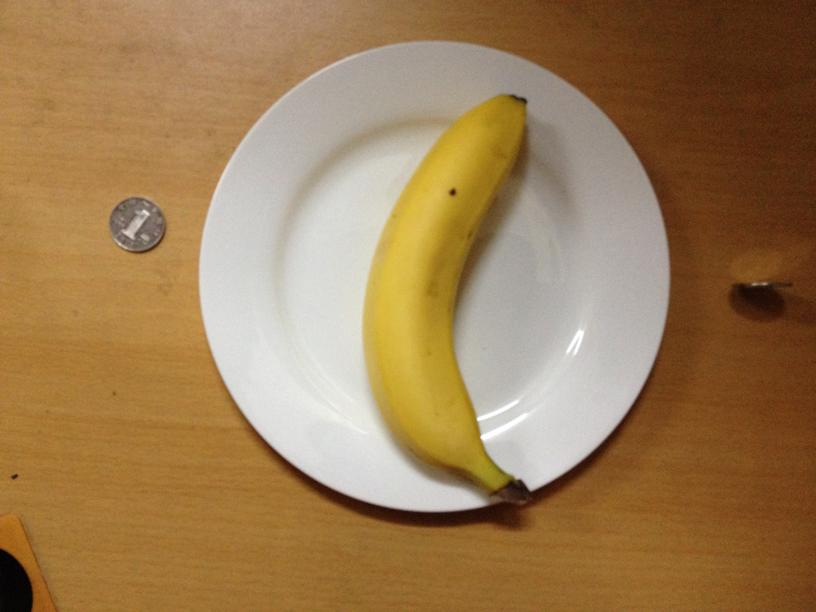banana: (363, 97, 527, 489)
coin: (107, 197, 167, 253)
